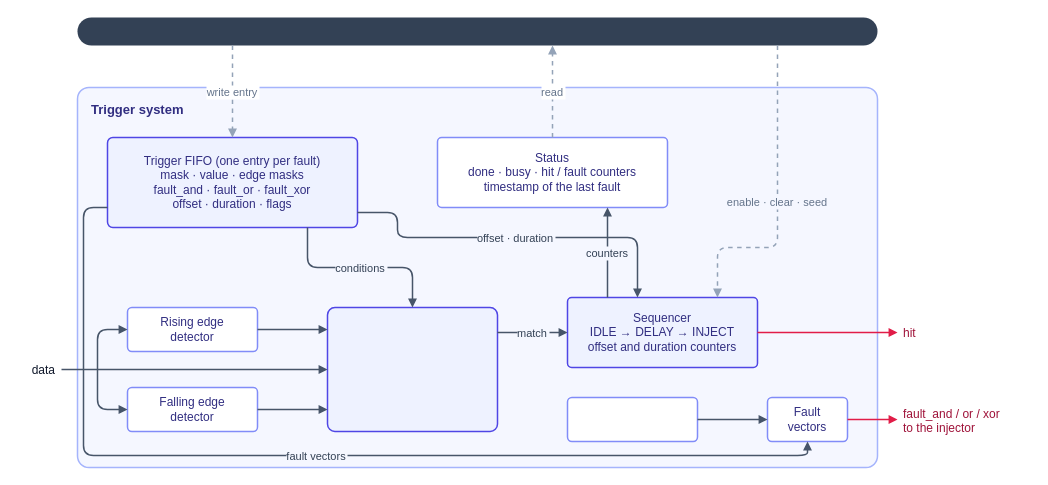
The diagram is 1048 pixels wide and 485 high, and some of its shapes have lost their labels. Here are the shapes that lost their labels. From the top down, the centre of each, then its label:
At pixel 477 31: "SoC bus · CSRs".
At pixel 412 369: "Condition masked compare of value, rising and falling edges".
At pixel 632 419: "LFSR random bit flip".
